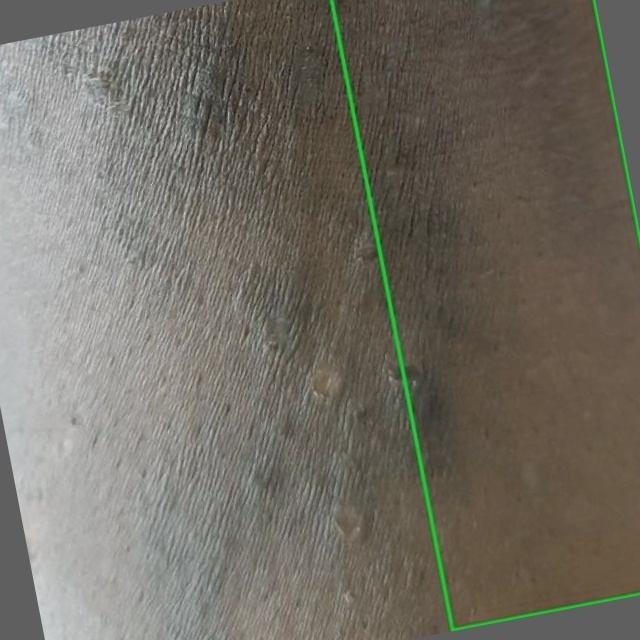Contact Dermatitis: (331, 0, 639, 630)
